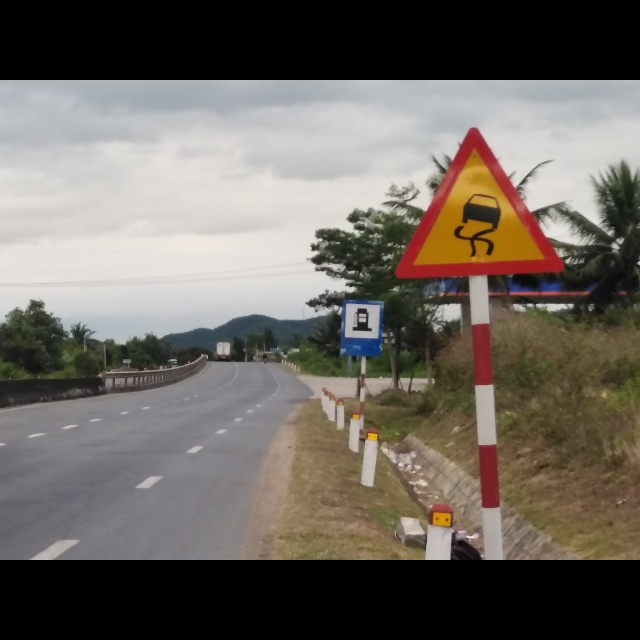Đường trơn trượt: (390, 129, 560, 277)
